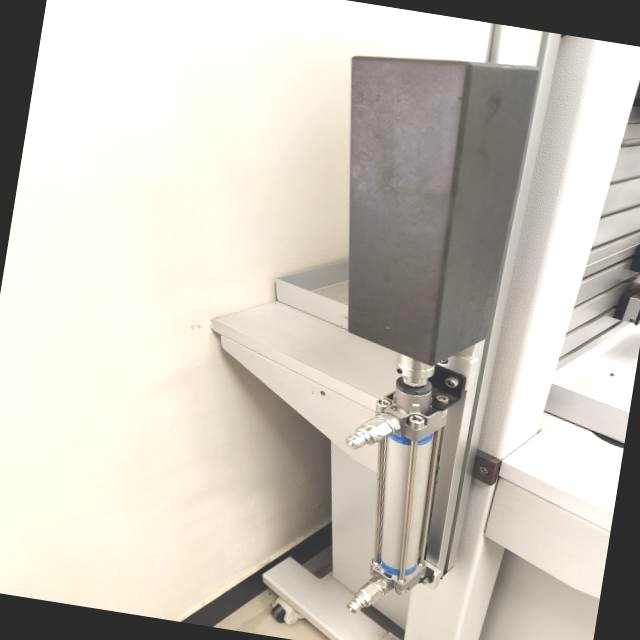load: (241, 16, 603, 640)
